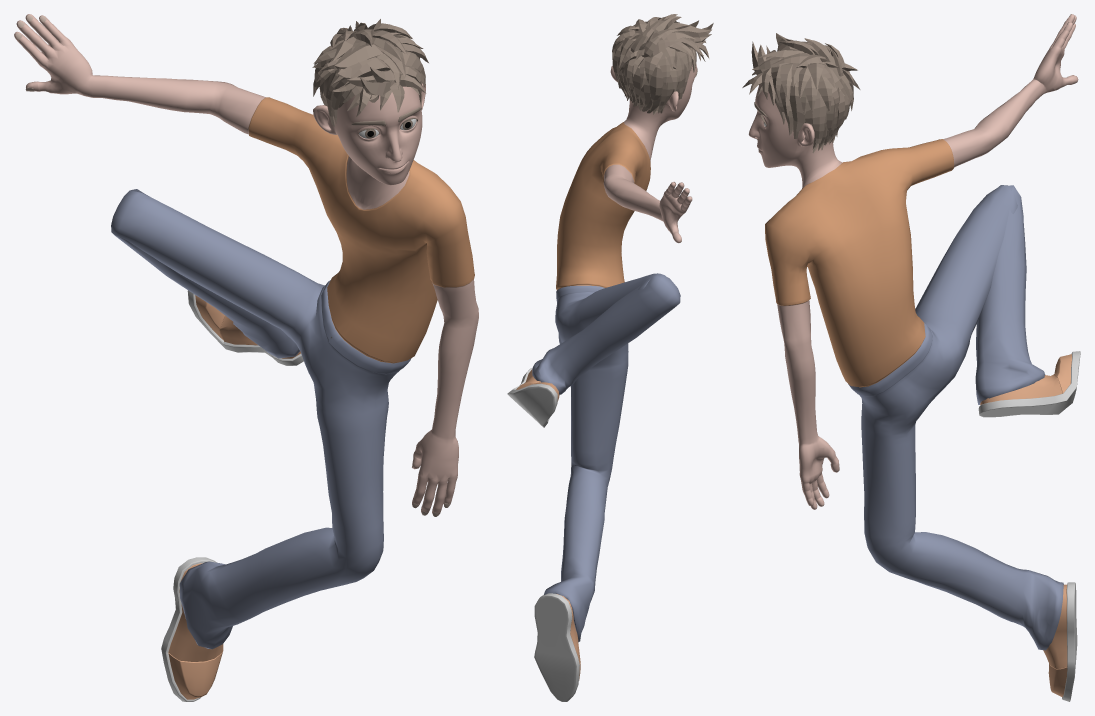
Rendered from Idle_pose.fbx.
3 views of the same model, side by side, from view 1: azimuth 30°, elevation 25°; view 2: azimuth 150°, elevation 25°; view 3: azimuth 270°, elevation 25° (orthographic). The views are drawn at different scales.
Visible parts, largest first — view 1: RayGEO, hairGEO, Lf_shoe, Rt_shoe; view 2: RayGEO, hairGEO, Lf_shoe, Rt_shoe; view 3: RayGEO, hairGEO, Rt_shoe, Lf_shoe.
Part boxes in pixels (left/top/right/bottom): RayGEO: left=14, top=14, right=478, bottom=649; hairGEO: left=312, top=19, right=428, bottom=126; Lf_shoe: left=161, top=557, right=223, bottom=701; Rt_shoe: left=187, top=290, right=303, bottom=365; RayGEO: left=532, top=62, right=696, bottom=642; hairGEO: left=612, top=14, right=713, bottom=114; Lf_shoe: left=534, top=593, right=580, bottom=701; Rt_shoe: left=507, top=368, right=559, bottom=427; RayGEO: left=748, top=14, right=1078, bottom=650; hairGEO: left=742, top=33, right=860, bottom=153; Rt_shoe: left=978, top=351, right=1080, bottom=417; Lf_shoe: left=1043, top=582, right=1077, bottom=701.
Bounding box in the file's own units: 6.59 × 16.53 × 7.55.
